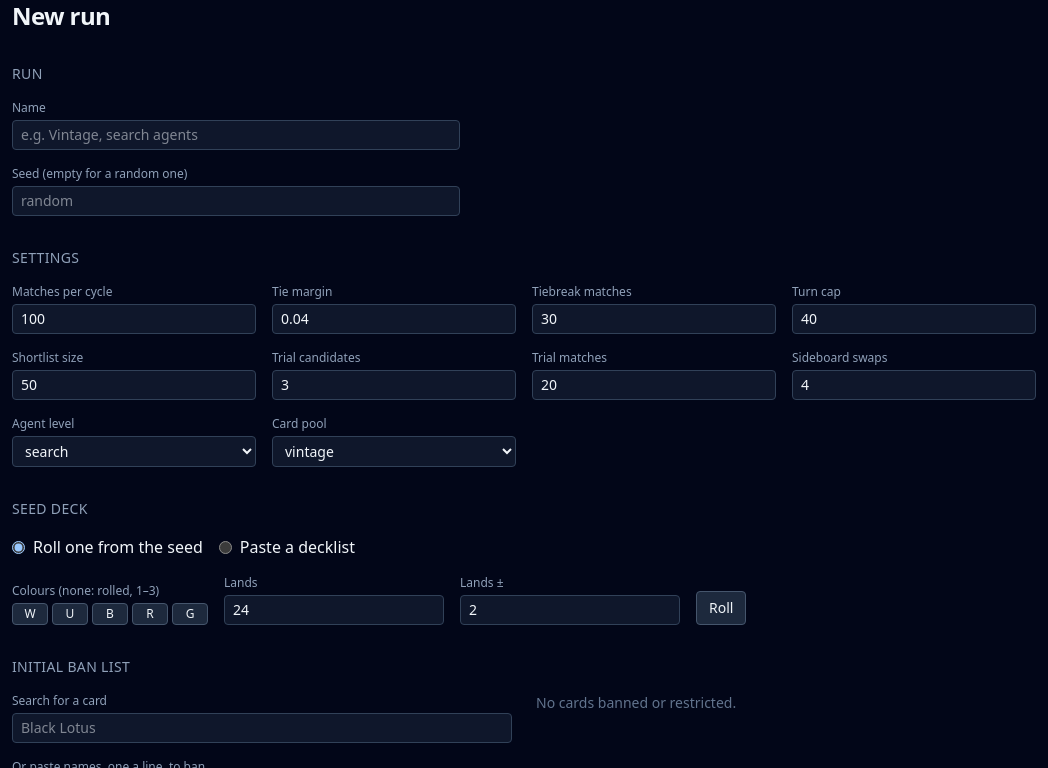
Test: the new-run form › holds an explicit colour choice to three (decision D17)
This screenshot has width=1048, height=768.
In the field labelled "Name": (236, 135) [12,120,460,150], type "x"
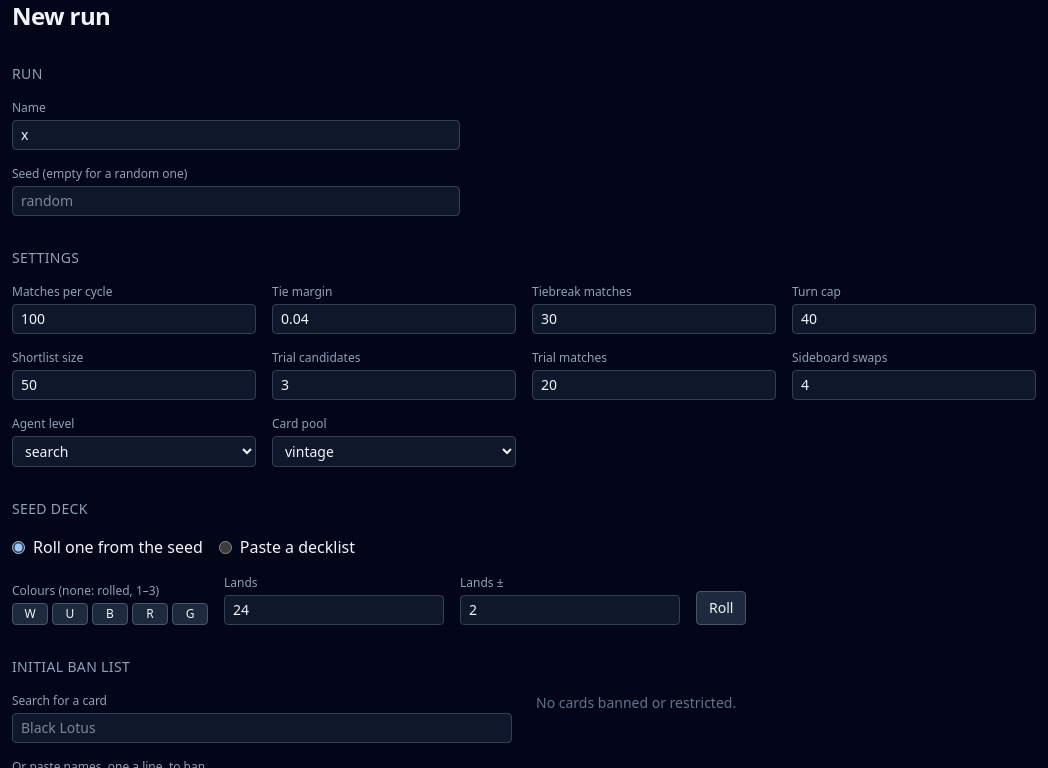
Click the button "W": (30, 614) [12,603,48,625]
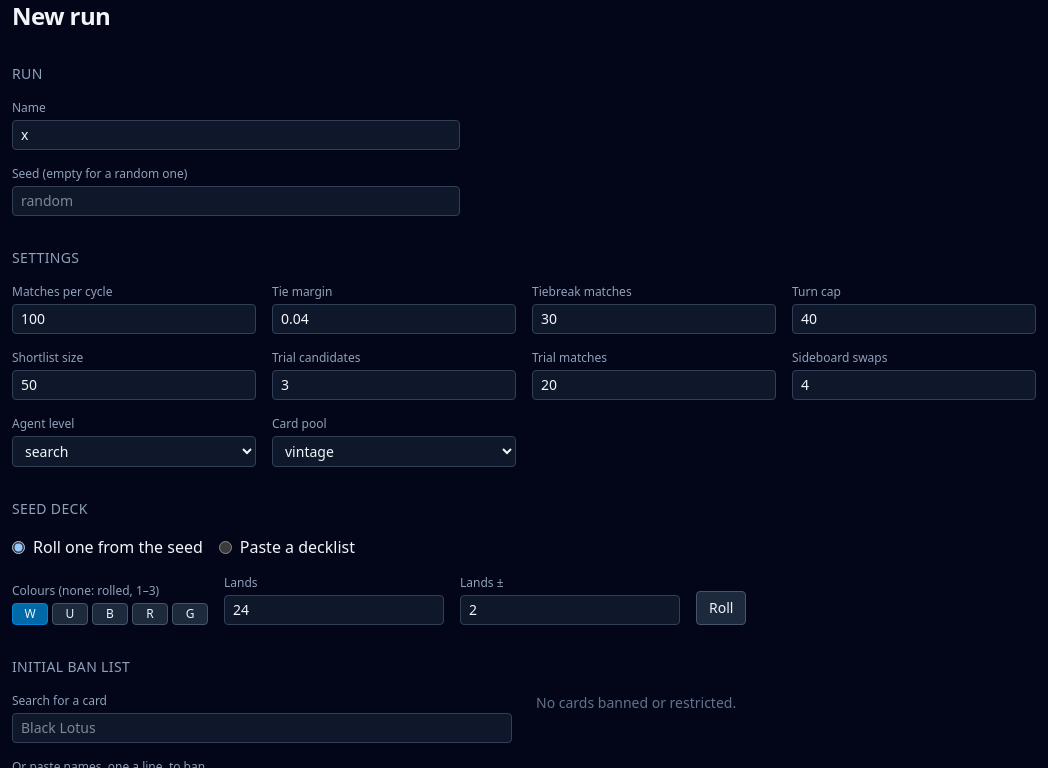
Click the button "U": (70, 614) [52,603,88,625]
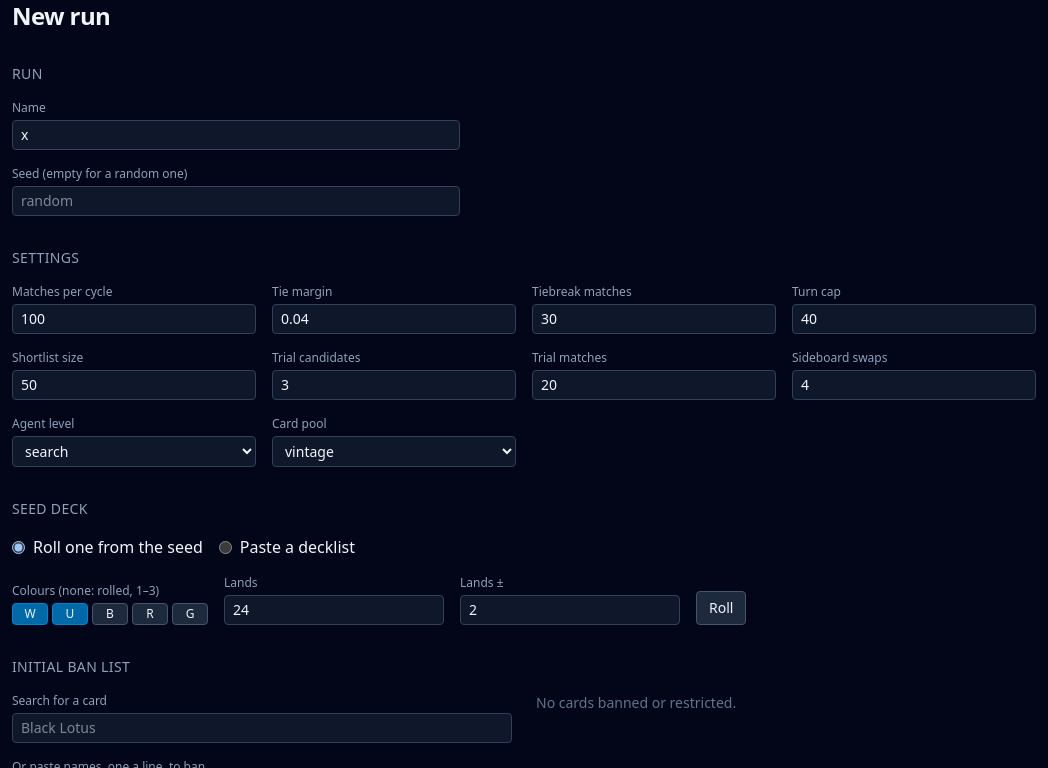
Click the button "B": (110, 614) [92,603,128,625]
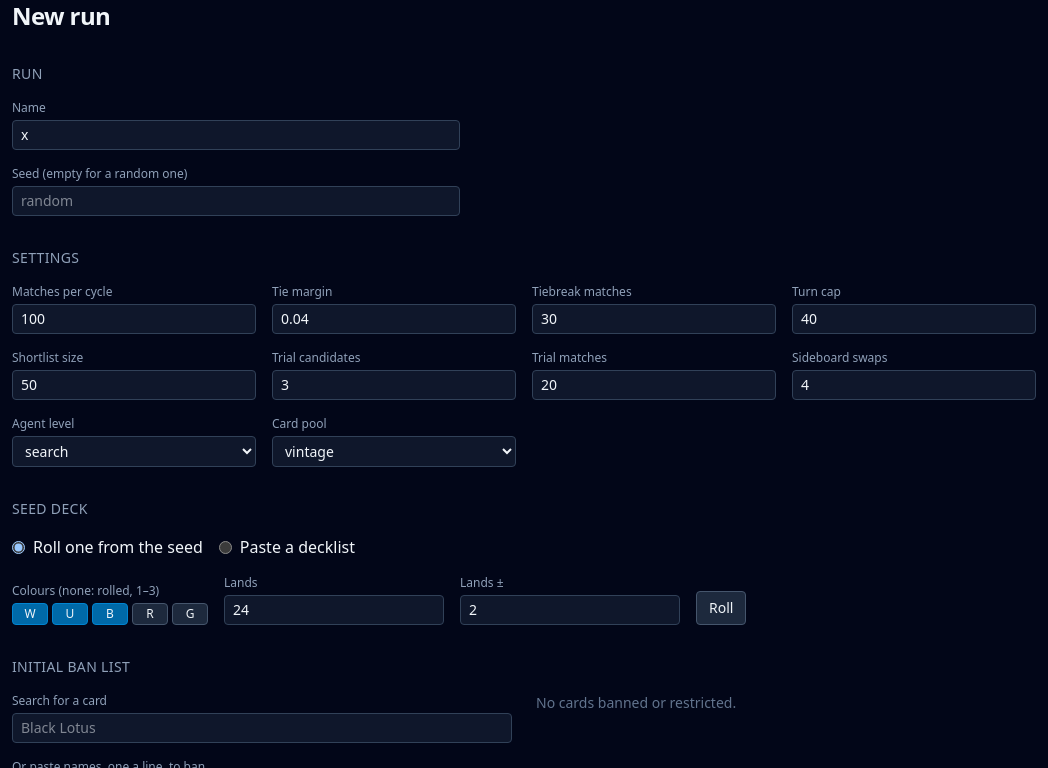
Click the button "R": (150, 614) [132,603,168,625]
(page scrolled)
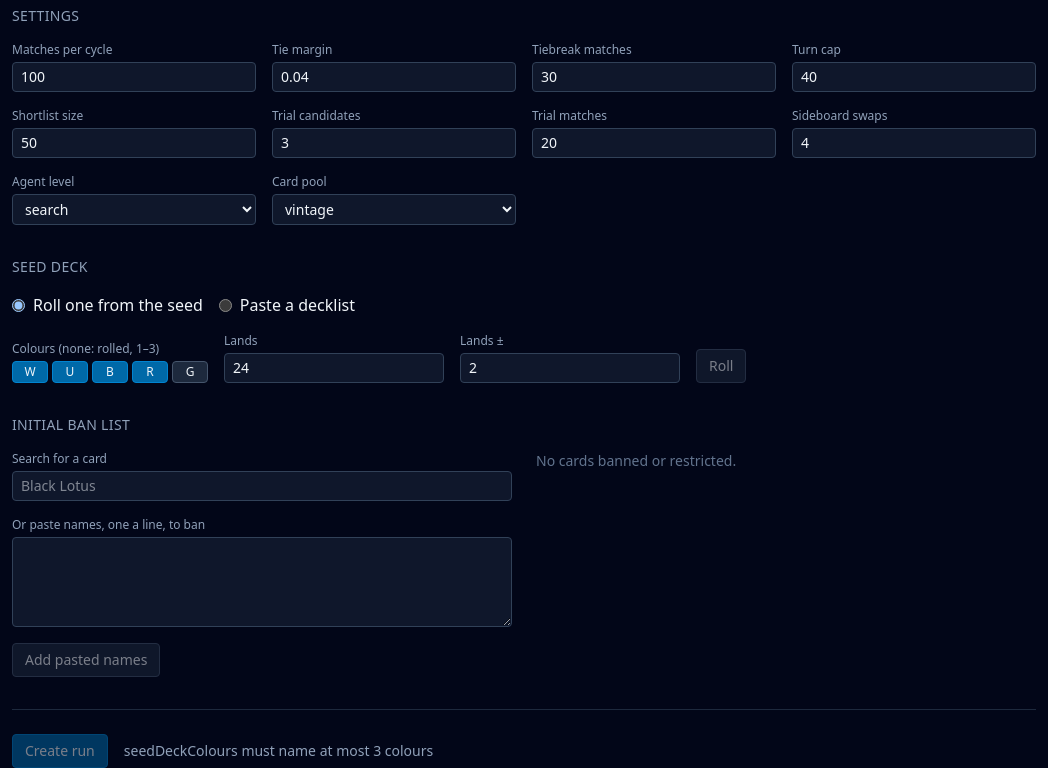
Now the text with test id "blockers" shows "at most 3 colours", box [124,741,433,760]
